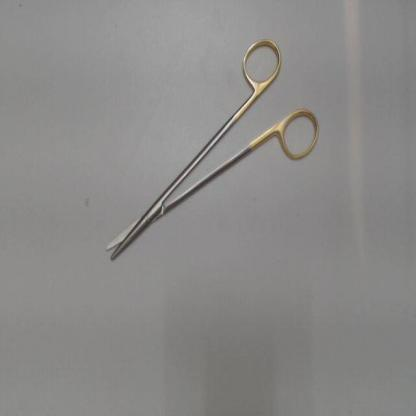7 Metzenbaum Scissors: (102, 32, 324, 270)
